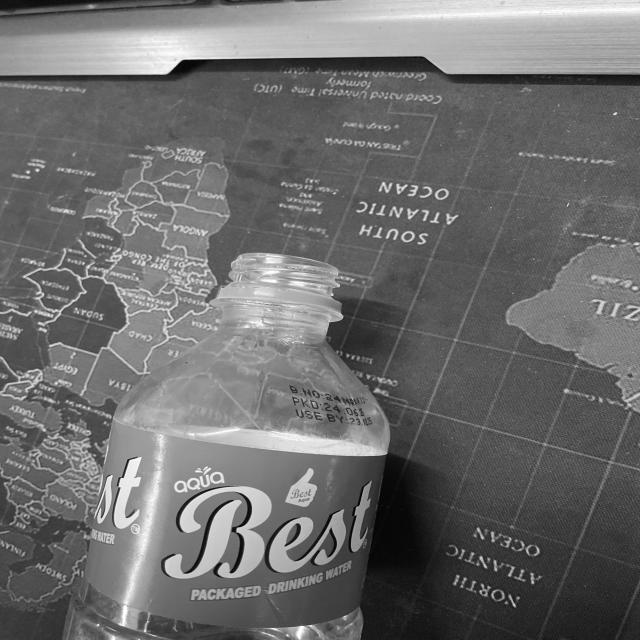open-cap: (223, 251, 337, 304)
